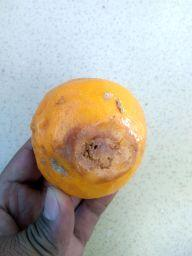Ripe: (33, 79, 147, 201)
